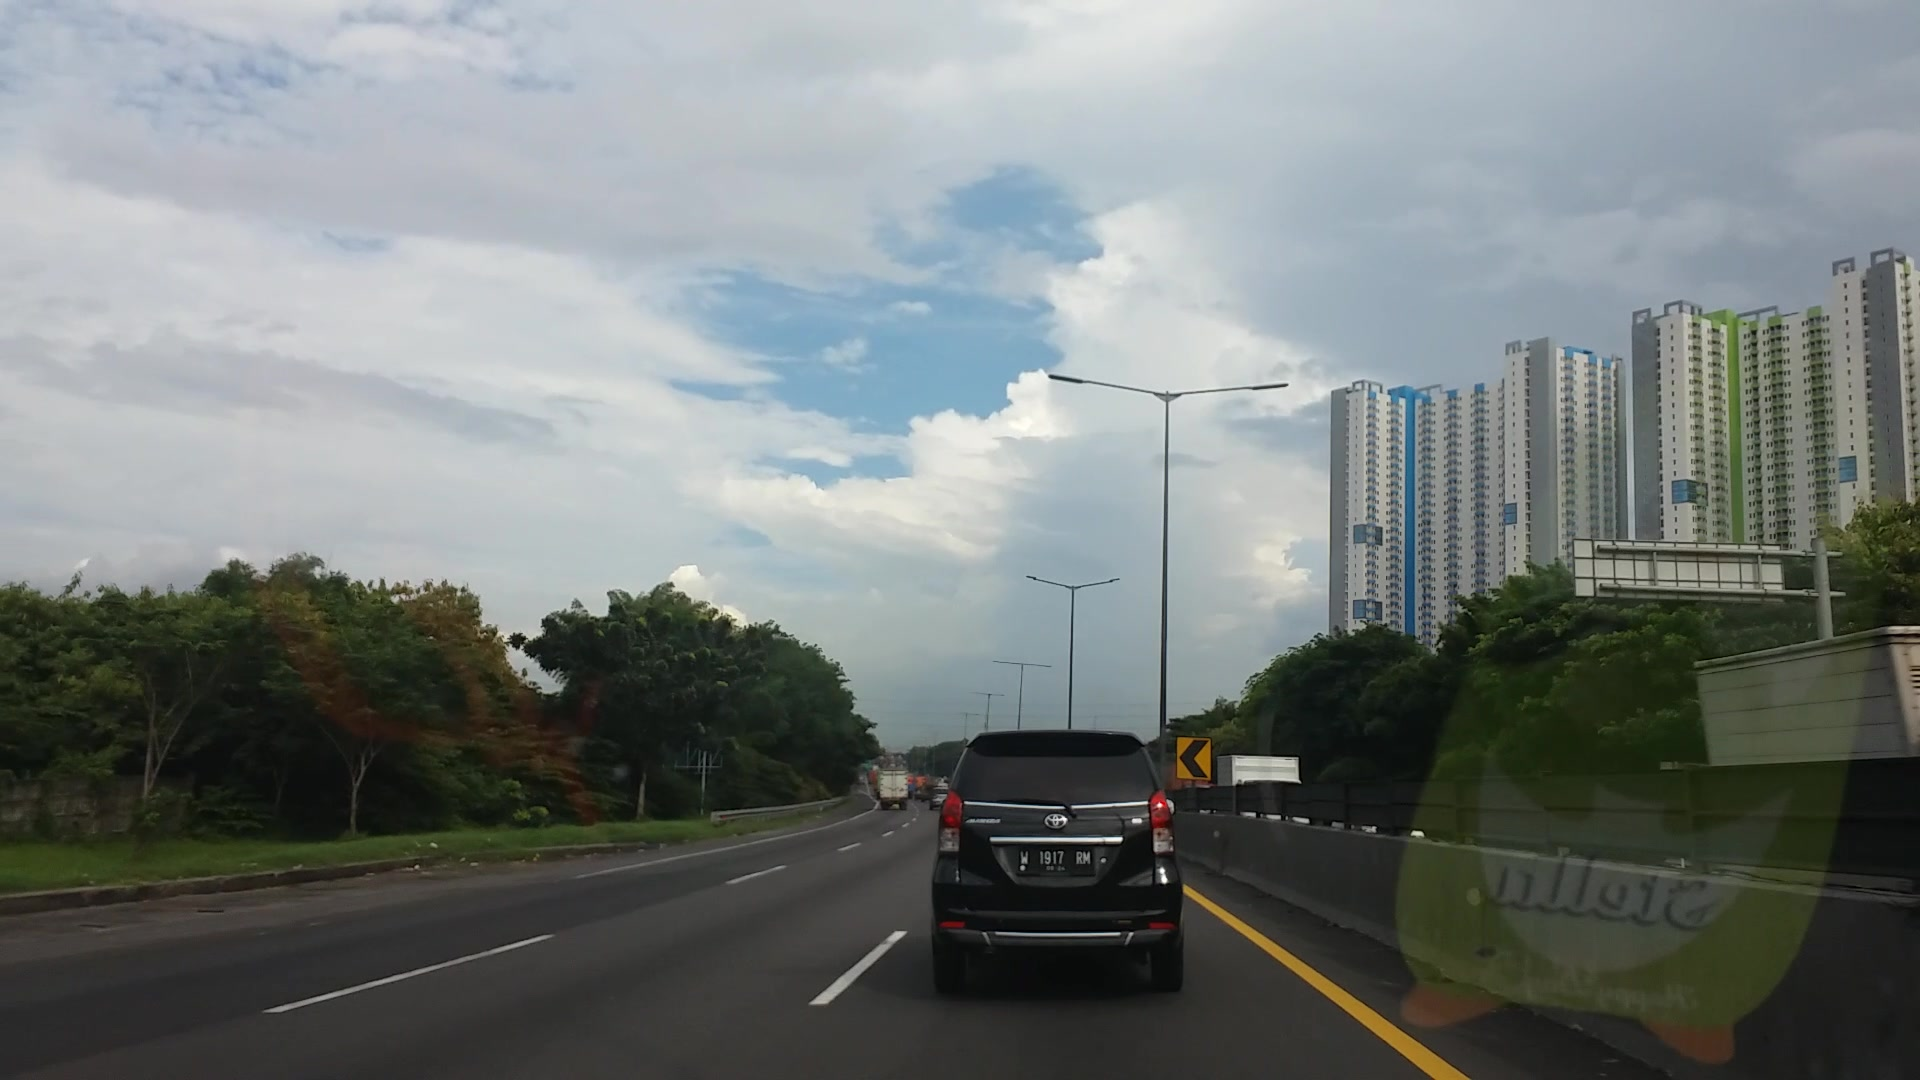plate_positive: (1017, 848, 1092, 873)
